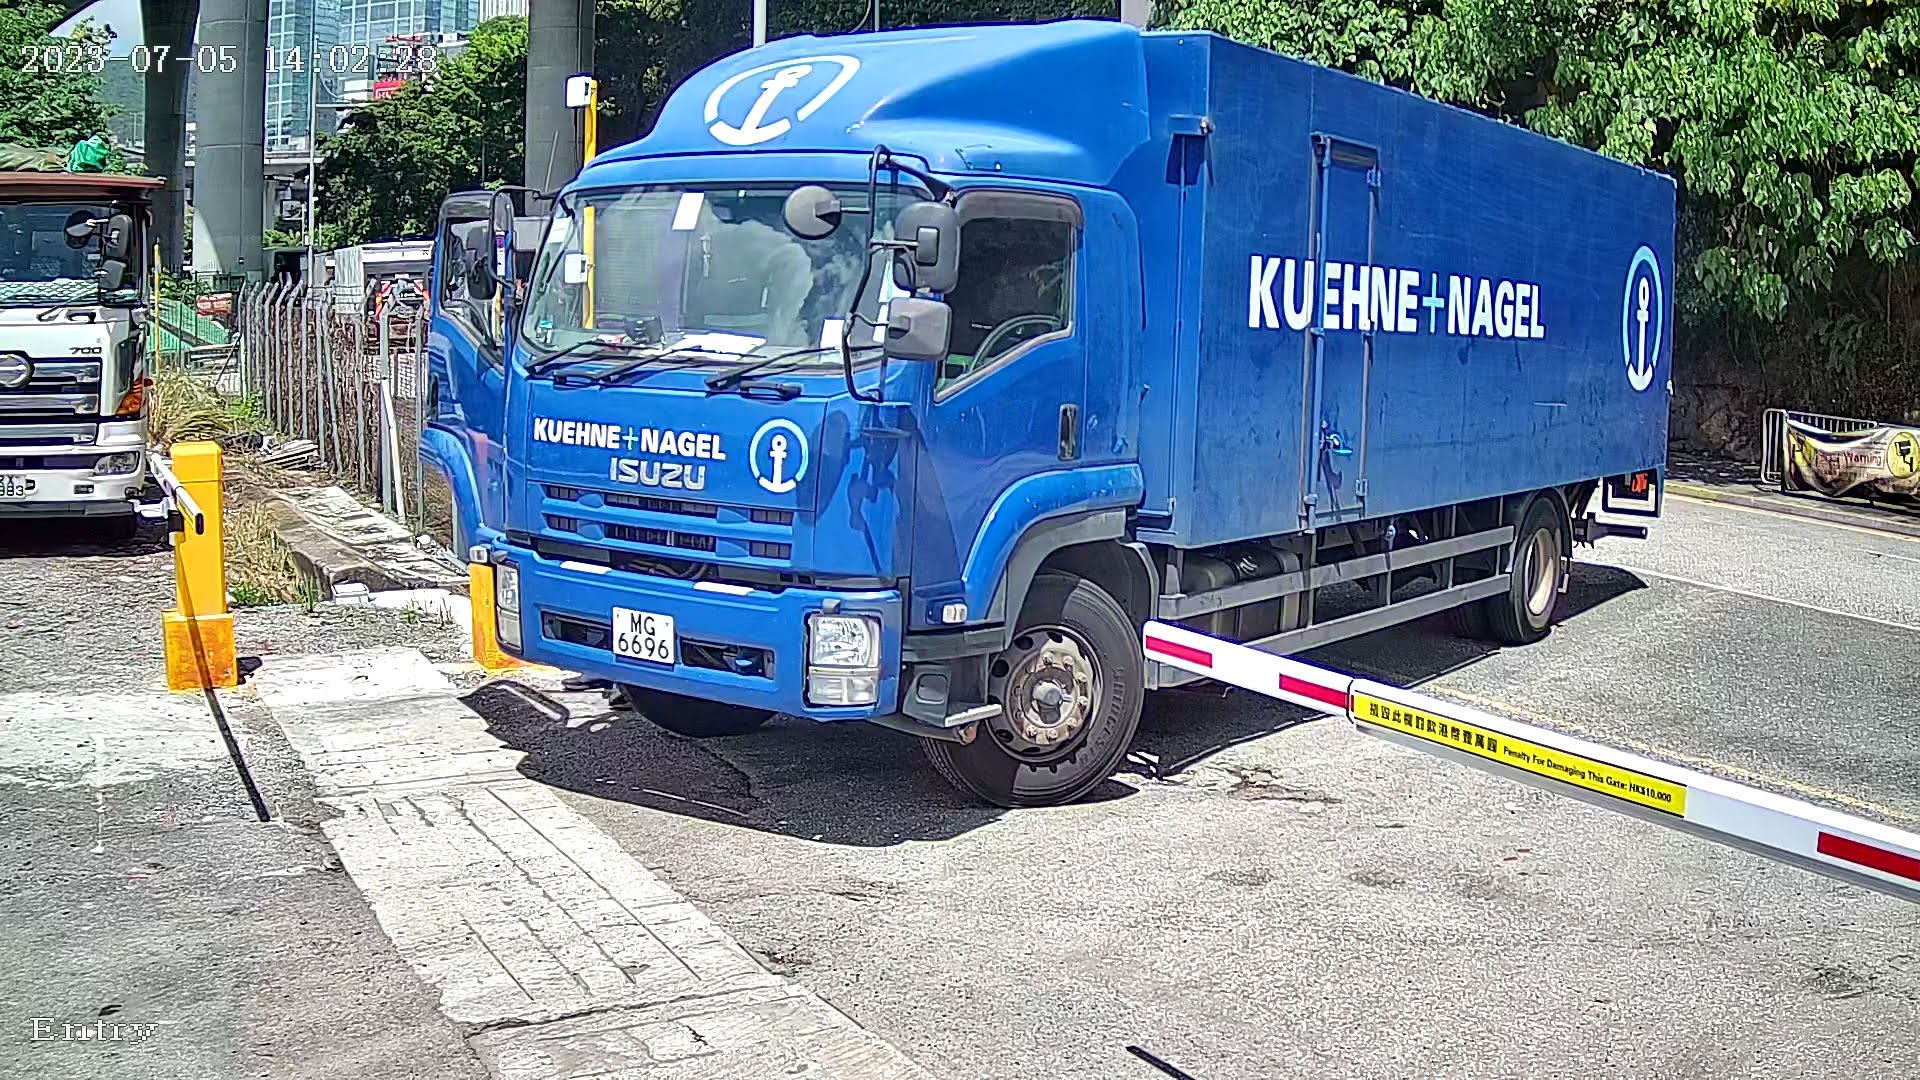truck: (423, 1, 1724, 856)
